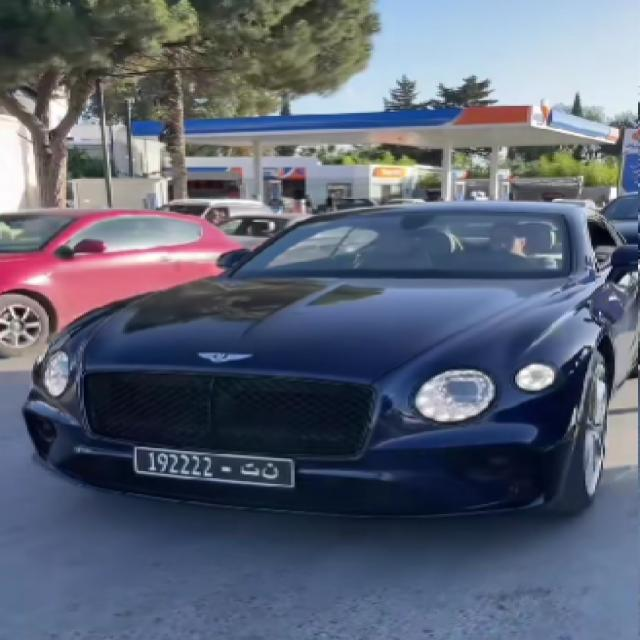licence plate: (137, 450, 290, 485)
